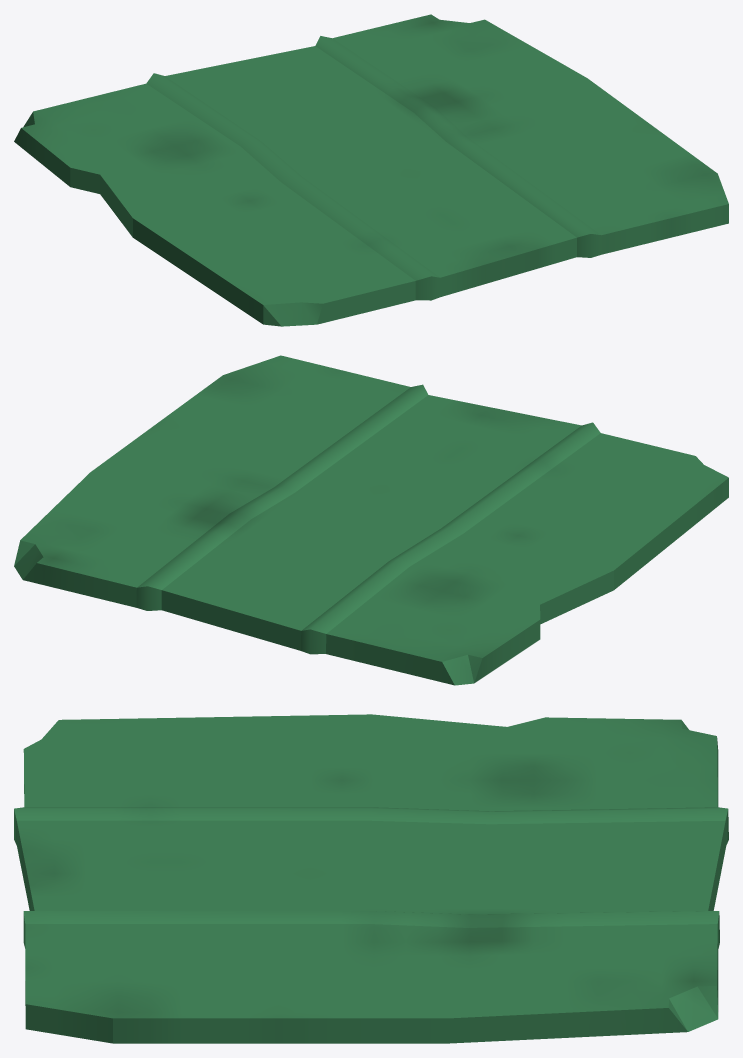
File: DE_Guide_A_05.fbx
3 renders of one model, top to bottom at view 1: azimuth 30°, elevation 25°; view 2: azimuth 150°, elevation 25°; view 3: azimuth 270°, elevation 25°, orthographic. The views are drawn at different scales.
Visible parts, largest first — view 1: DE_Guide_A_05; view 2: DE_Guide_A_05; view 3: DE_Guide_A_05.
Boxes of the visible parts, x1,y1,x2,y2 form: DE_Guide_A_05: [14, 14, 728, 326]; DE_Guide_A_05: [14, 355, 728, 685]; DE_Guide_A_05: [14, 714, 728, 1043].
Bounding box in the file's own units: 207 × 9.91 × 206.
